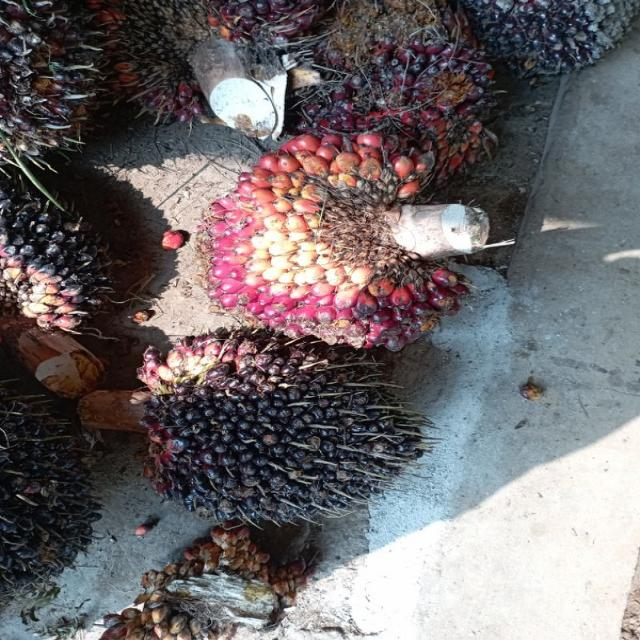fraksi 00: (75, 315, 451, 553), (176, 0, 544, 234)
fraksi 3: (144, 103, 530, 382)
